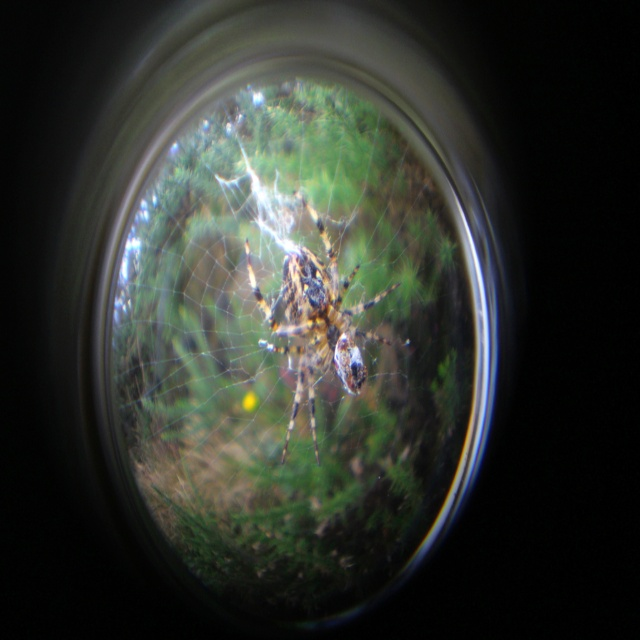Spider: (246, 186, 411, 467)
